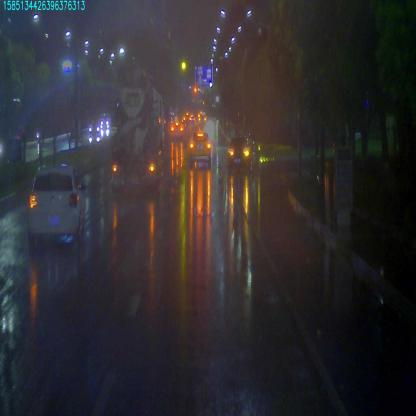traffic-light: (177, 54, 187, 69)
